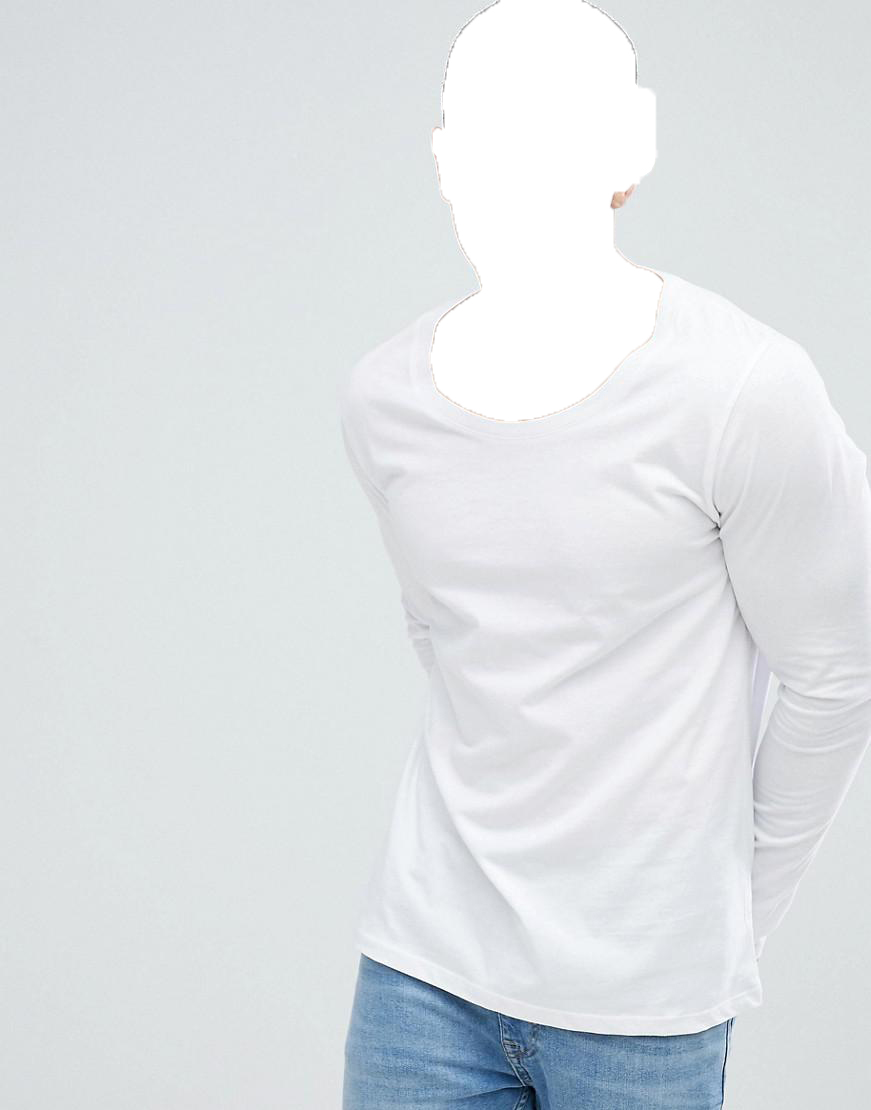teeshirt: (318, 259, 868, 1064)
